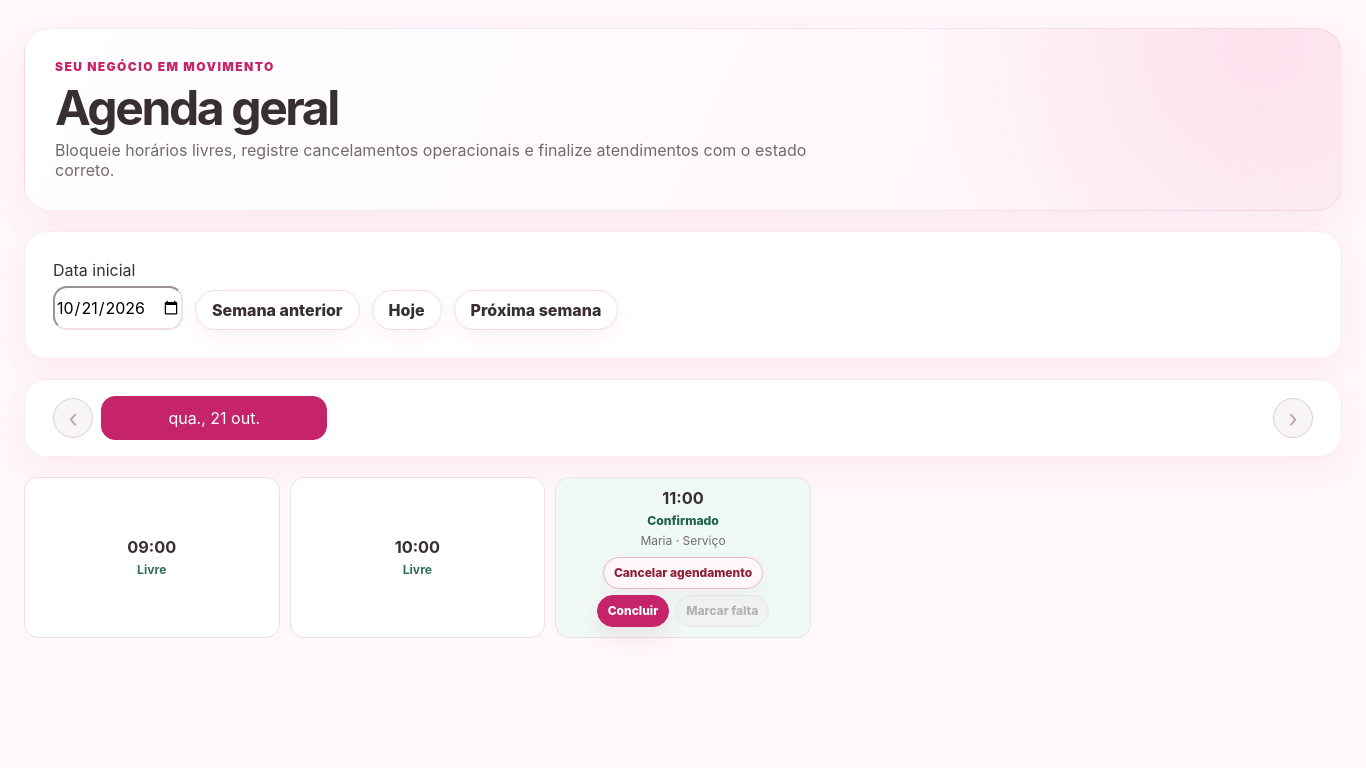
Test: recuperação e período da agenda da dona › navega por semanas, escolhe ontem e conclui a reserva mantendo o período na atualização
Check: the date field labelled "Data inicial" holds "2026-10-21", box left=53, top=286, right=183, bottom=330
Click the button "Semana anterior" at (277, 310), box left=195, top=290, right=360, bottom=330
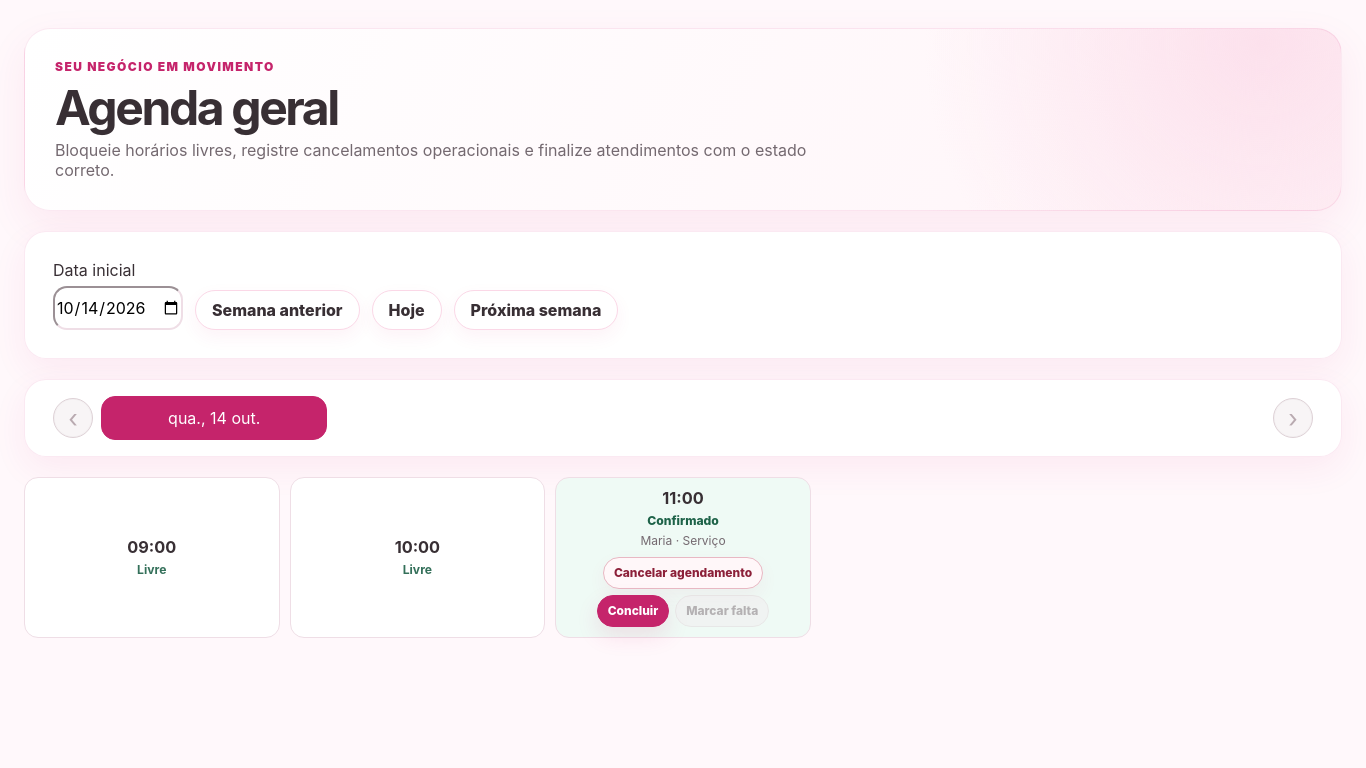
Check: the date field labelled "Data inicial" holds "2026-10-14", box left=53, top=286, right=183, bottom=330
Click the button "Próxima semana" at (536, 310), box left=454, top=290, right=618, bottom=330
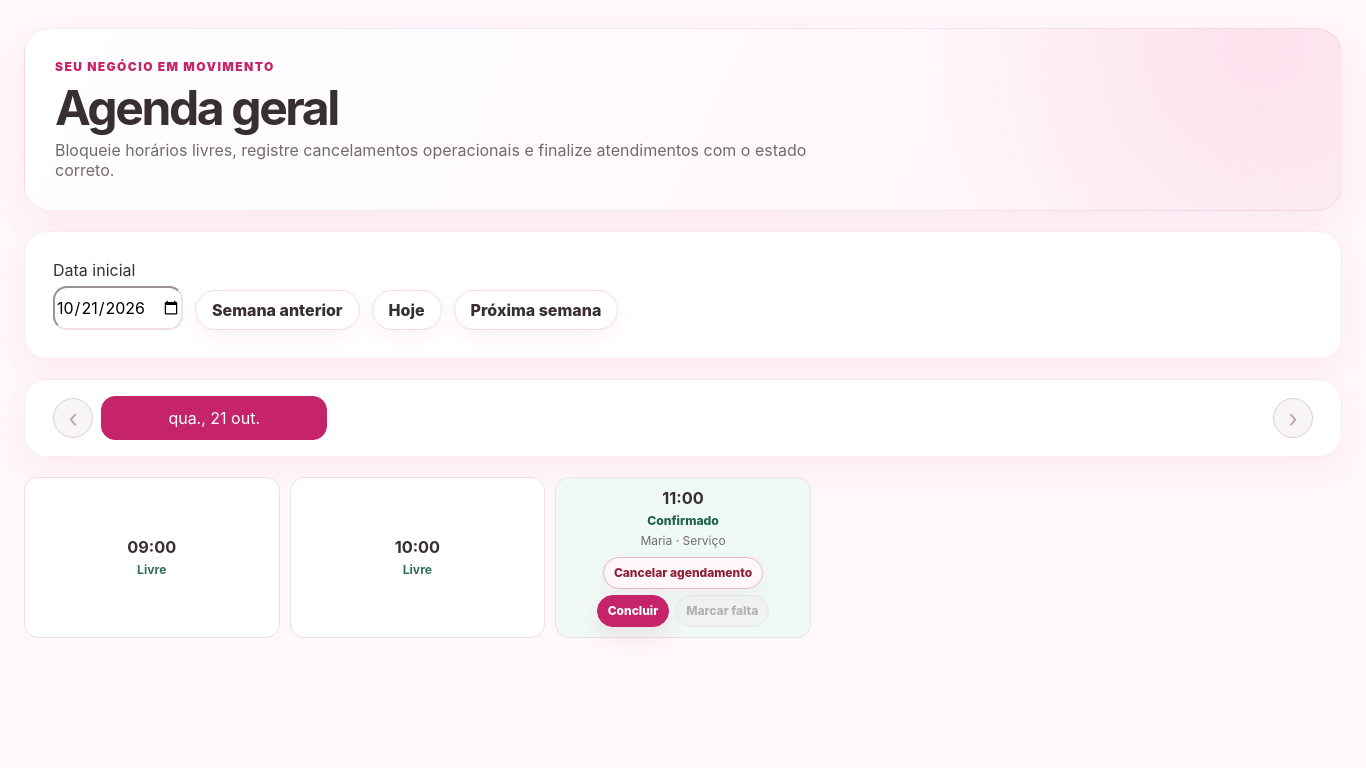
Check: the date field labelled "Data inicial" holds "2026-10-21"
Type "2026-11-02" into the date field labelled "Data inicial" at (118, 308), box left=53, top=286, right=183, bottom=330
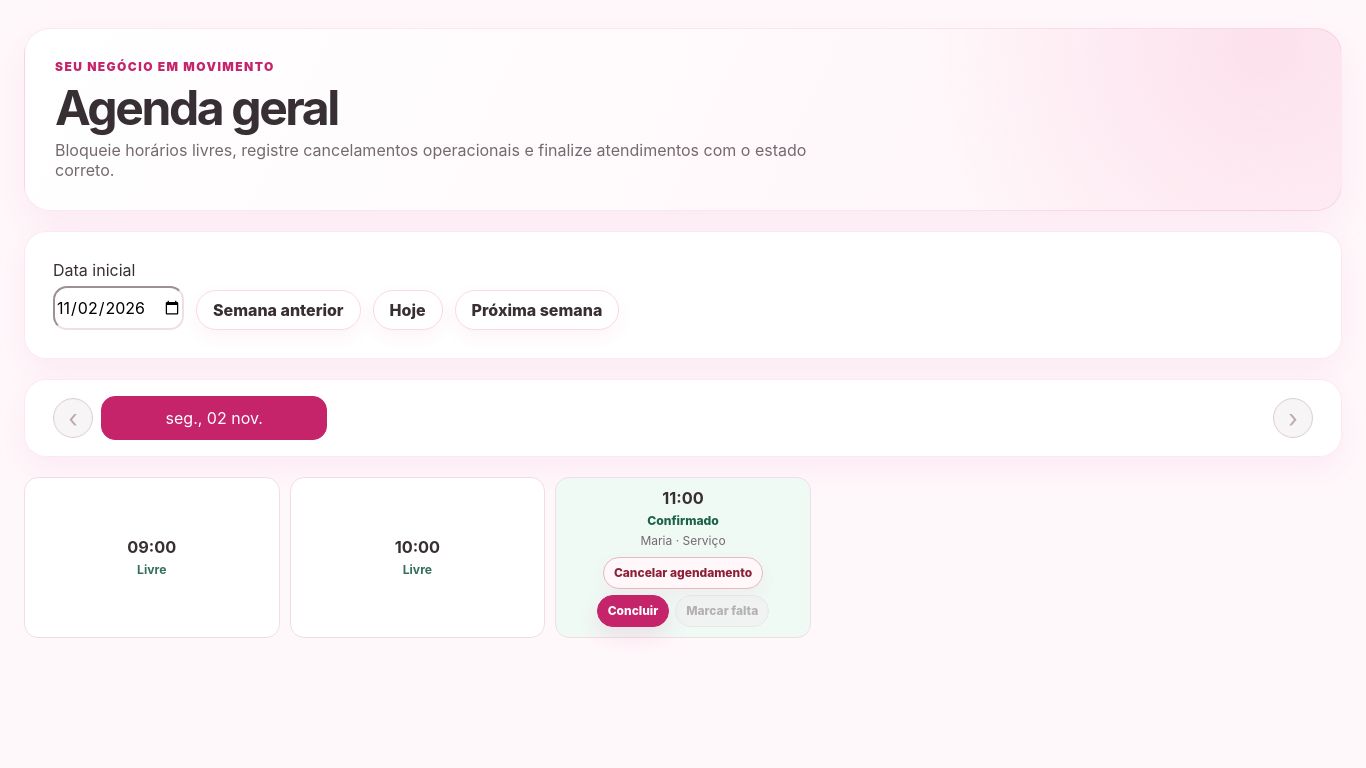
Check: the element named "Horários de 2026-11-02" is shown, box left=24, top=477, right=811, bottom=638
Type "2026-10-20" into the date field labelled "Data inicial" at (118, 308), box left=53, top=286, right=184, bottom=330
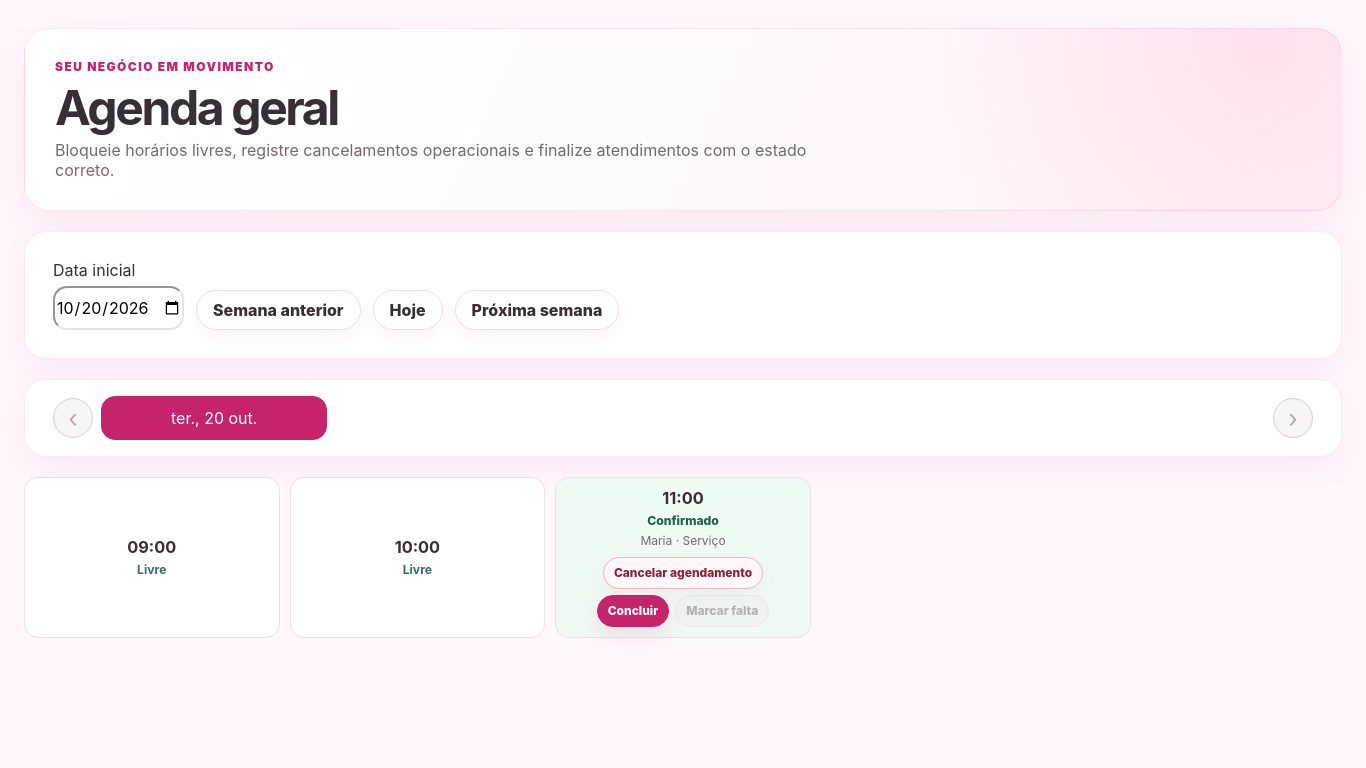
Check: the element named "Horários de 2026-10-20" is shown, box left=24, top=477, right=811, bottom=638
Click the button "Concluir" at (633, 611), box left=597, top=595, right=669, bottom=627
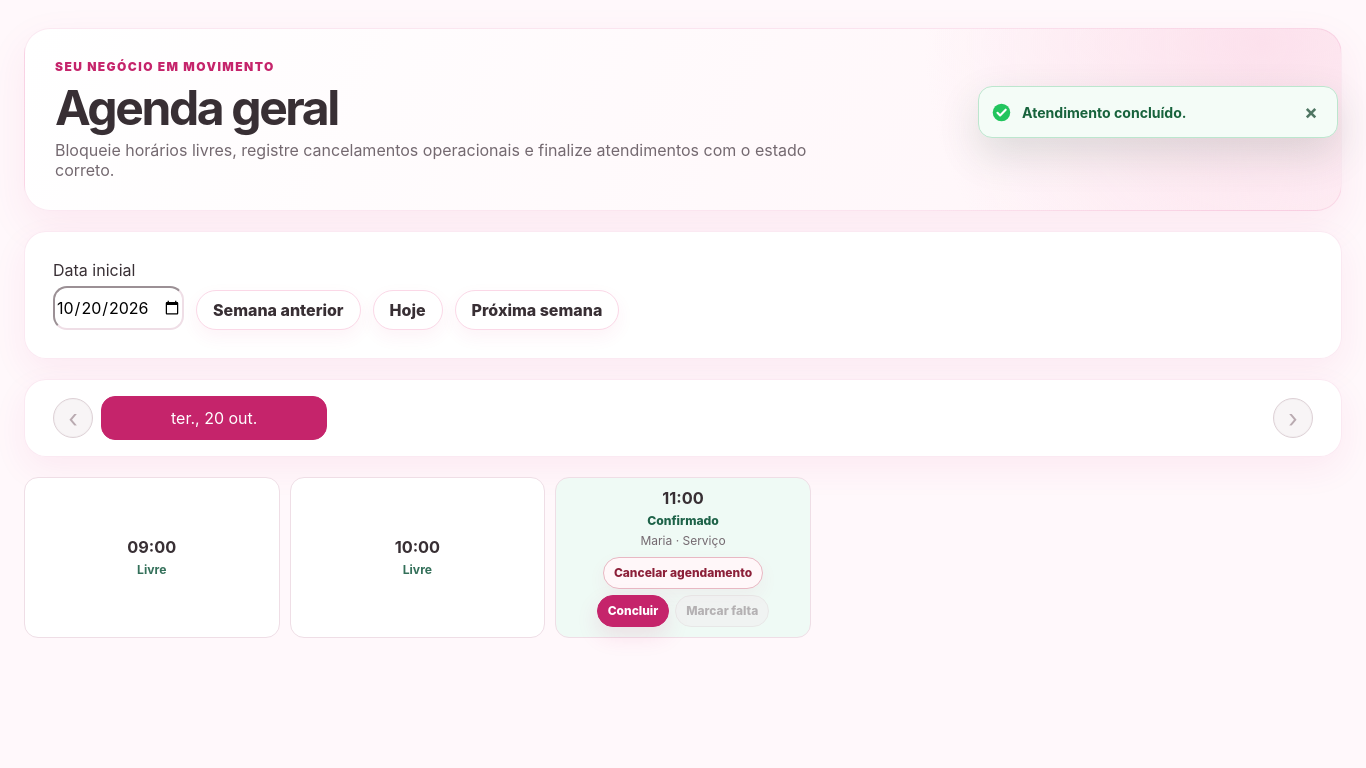
Click the button "Hoje" at (408, 310), box left=373, top=290, right=443, bottom=330
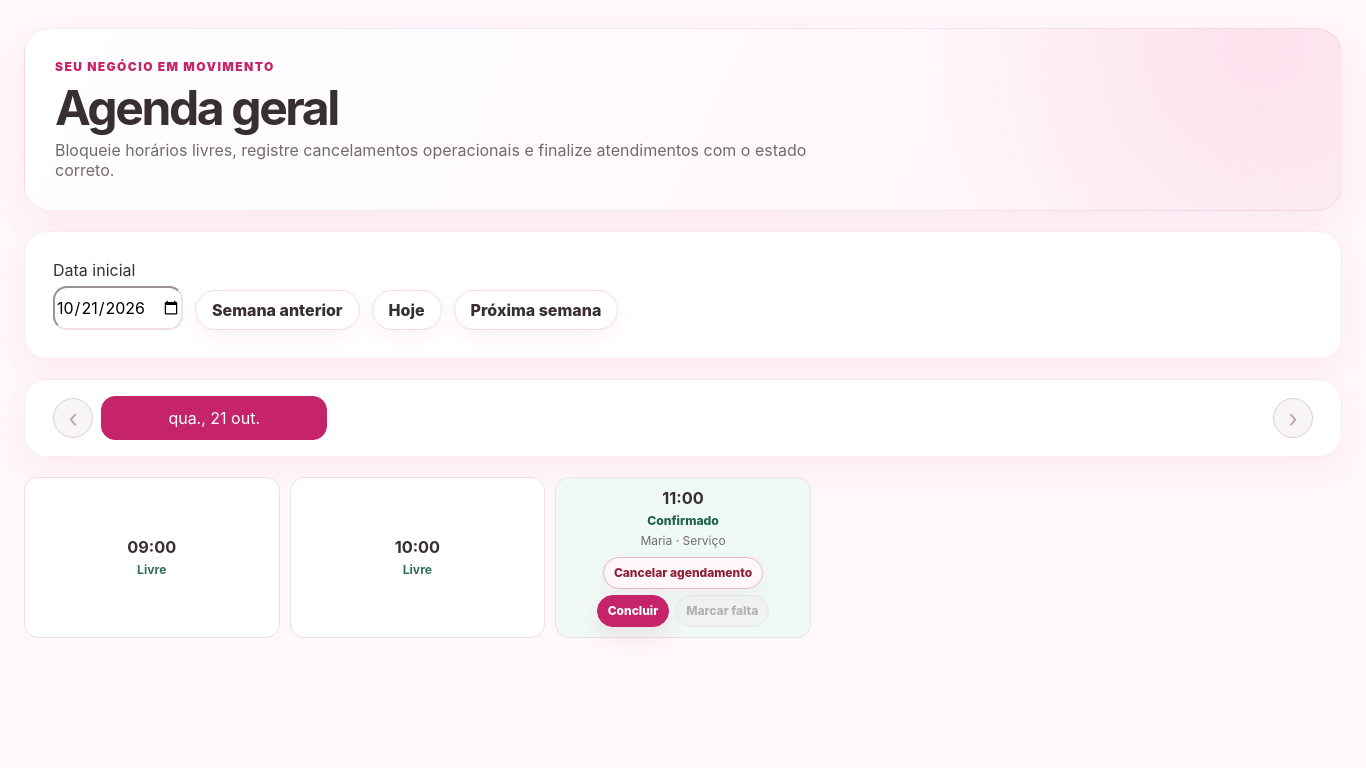
Check: the date field labelled "Data inicial" holds "2026-10-21", box left=53, top=286, right=183, bottom=330
